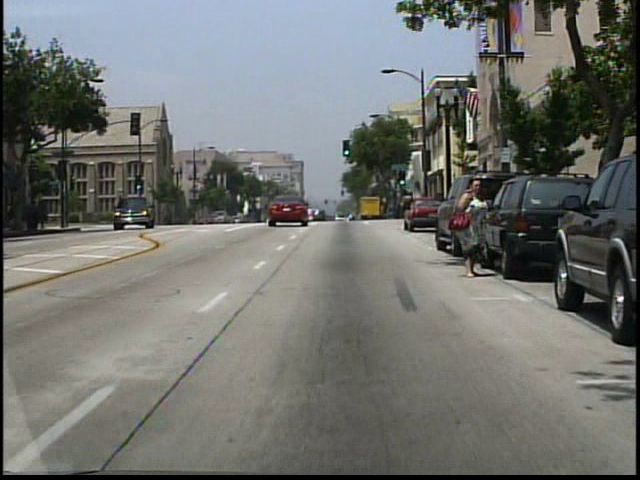person: (452, 176, 502, 281)
